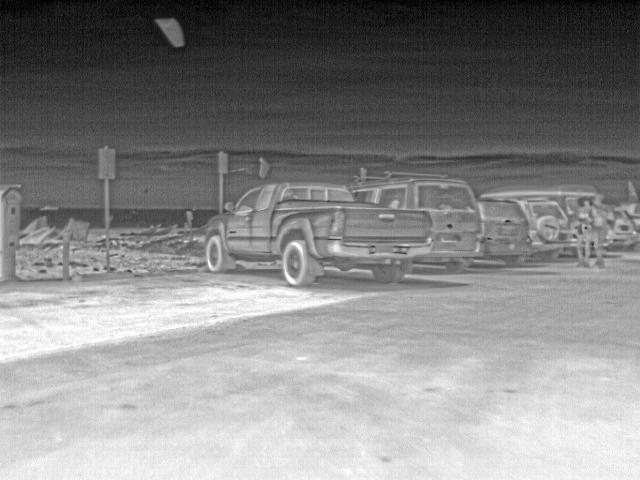car: (204, 182, 436, 287), (348, 169, 483, 272), (486, 184, 593, 228), (477, 197, 535, 266), (518, 198, 571, 260), (614, 206, 638, 253)
person: (572, 191, 594, 269), (592, 189, 613, 270)
